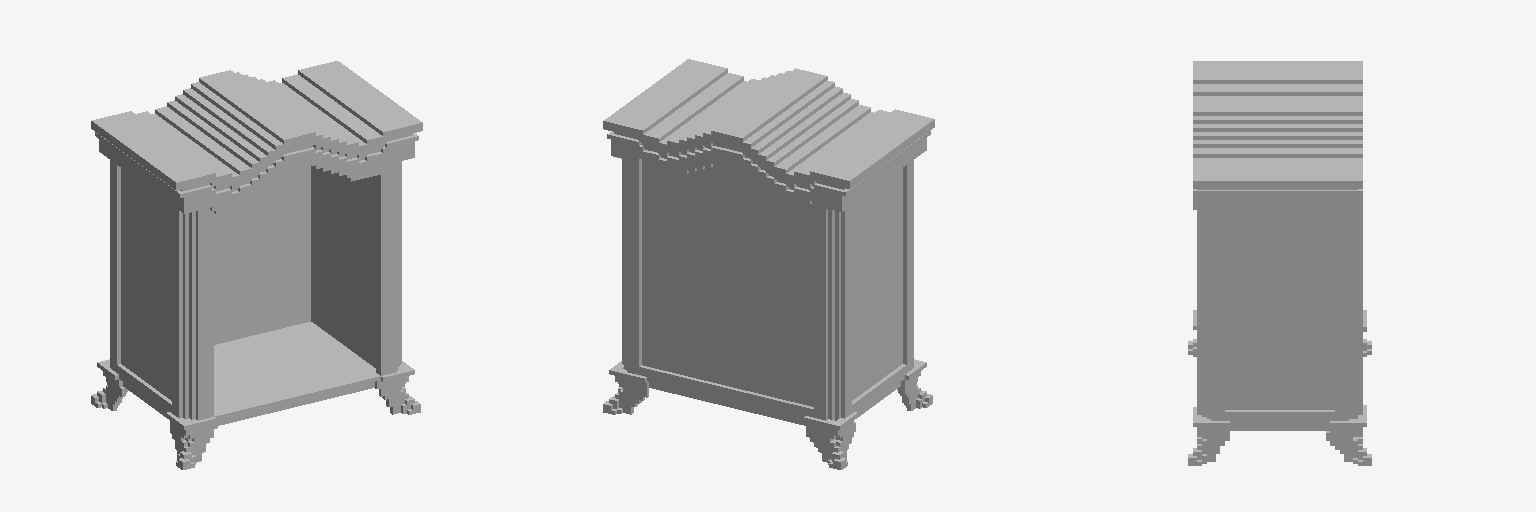
Rendered from closet.obj.
The picture shows the model from 3 angles: view 1: azimuth 30°, elevation 25°; view 2: azimuth 150°, elevation 25°; view 3: azimuth 270°, elevation 25°; orthographic projection.
Parts seen in each view (by area): view 1: object 1; view 2: object 1; view 3: object 1.
Part boxes in pixels (bbox=[...]): object 1: bbox=[91, 61, 422, 469]; object 1: bbox=[603, 59, 934, 469]; object 1: bbox=[1188, 61, 1371, 465].
Size of the model in its own units: 6.2 by 7.3 by 4.